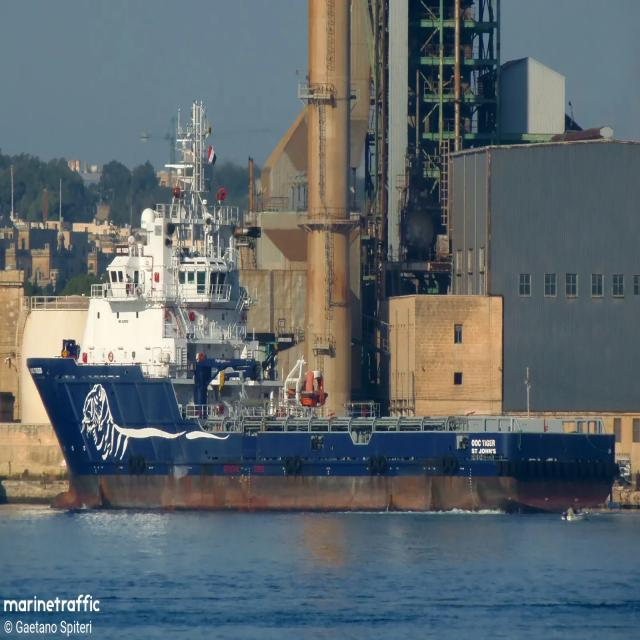Offshore: (26, 103, 615, 510)
